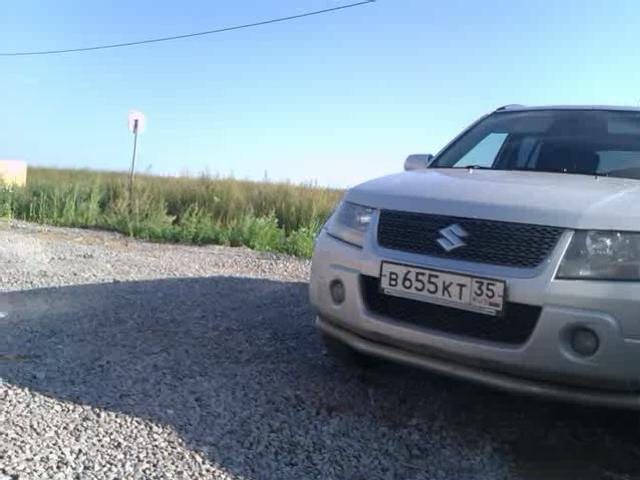car license plate: (376, 259, 503, 316)
